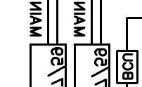BCU: (116, 49, 139, 85)
